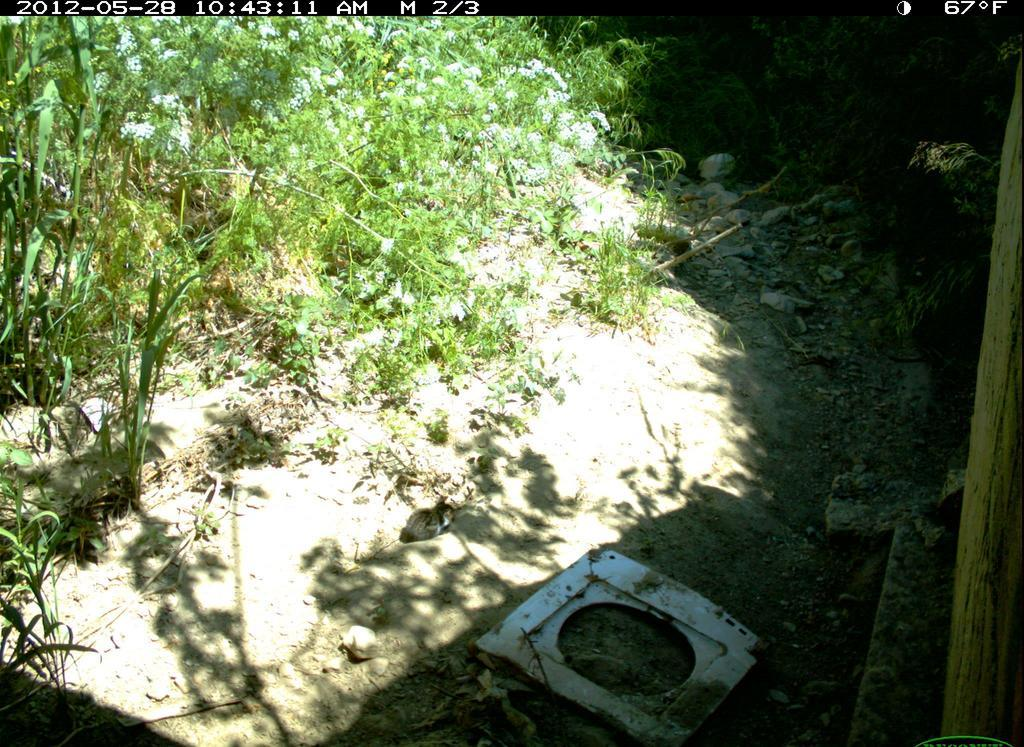cat: (383, 491, 473, 550)
